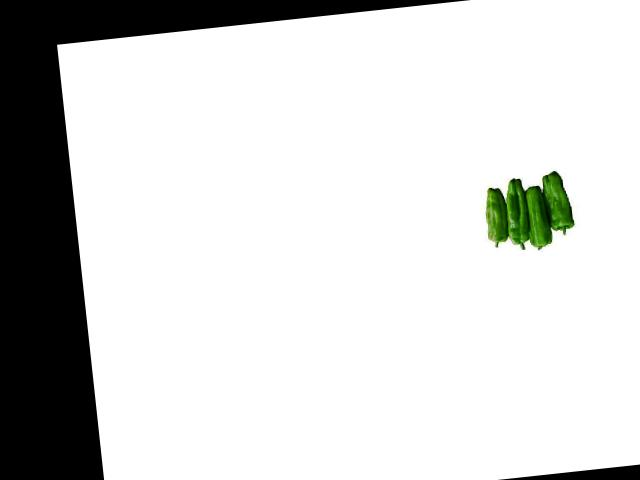bell_pepper: (540, 164, 575, 239)
